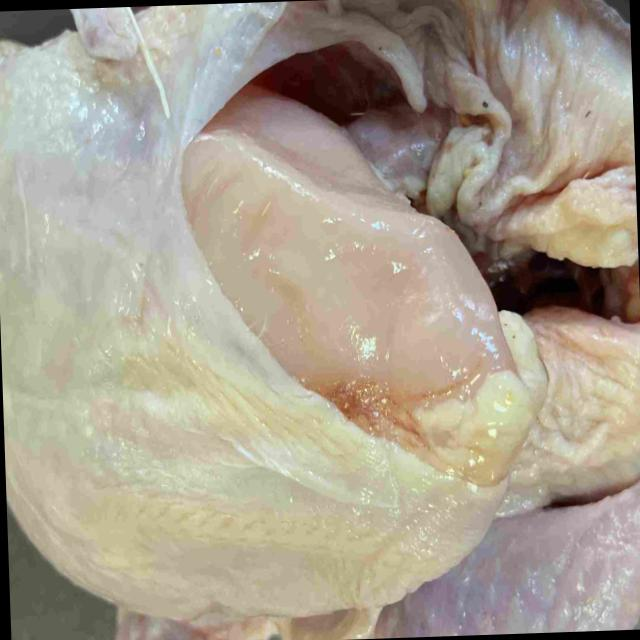breast: (0, 43, 535, 615)
leg: (282, 481, 640, 640)
wing: (110, 604, 284, 640)
